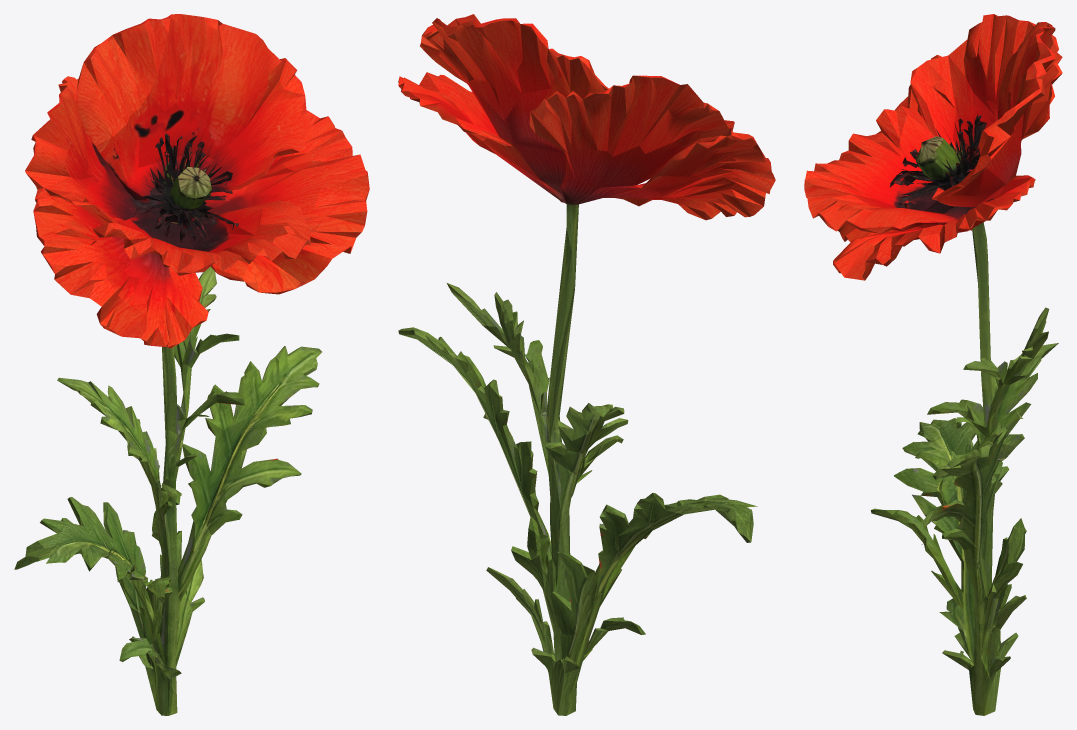
The model's file is poppy1.glb.
3 renders of one model, left to right at view 1: azimuth 30°, elevation 25°; view 2: azimuth 150°, elevation 25°; view 3: azimuth 270°, elevation 25°, orthographic. The views are drawn at different scales.
Parts seen in each view (by area): view 1: THREEJS_EXPORT_TEMP; view 2: THREEJS_EXPORT_TEMP; view 3: THREEJS_EXPORT_TEMP.
Boxes of the visible parts, x1=… form: THREEJS_EXPORT_TEMP: x1=14, y1=14, x2=369, y2=715; THREEJS_EXPORT_TEMP: x1=398, y1=14, x2=775, y2=715; THREEJS_EXPORT_TEMP: x1=804, y1=14, x2=1062, y2=715.
Bounding box in the file's own units: 0.9854 × 1.9 × 0.6489.
1 material, 1 textured.
